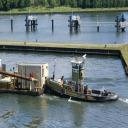tugboat: (46, 54, 121, 109)
